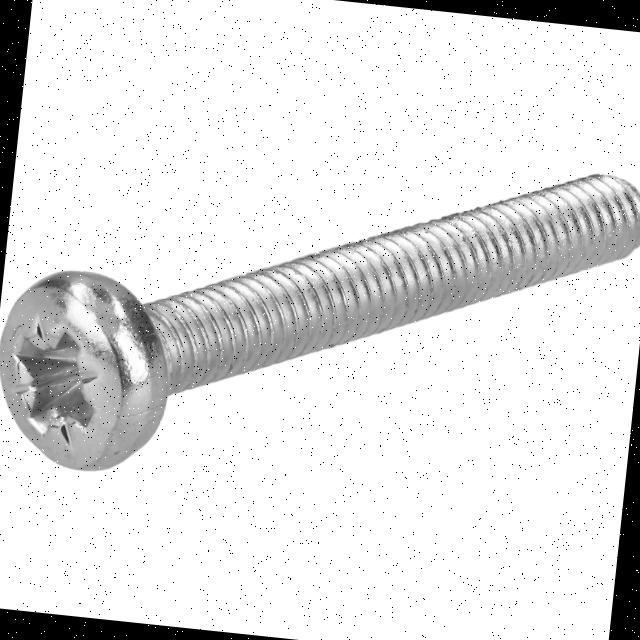Pozidriv: (0, 263, 141, 477)
